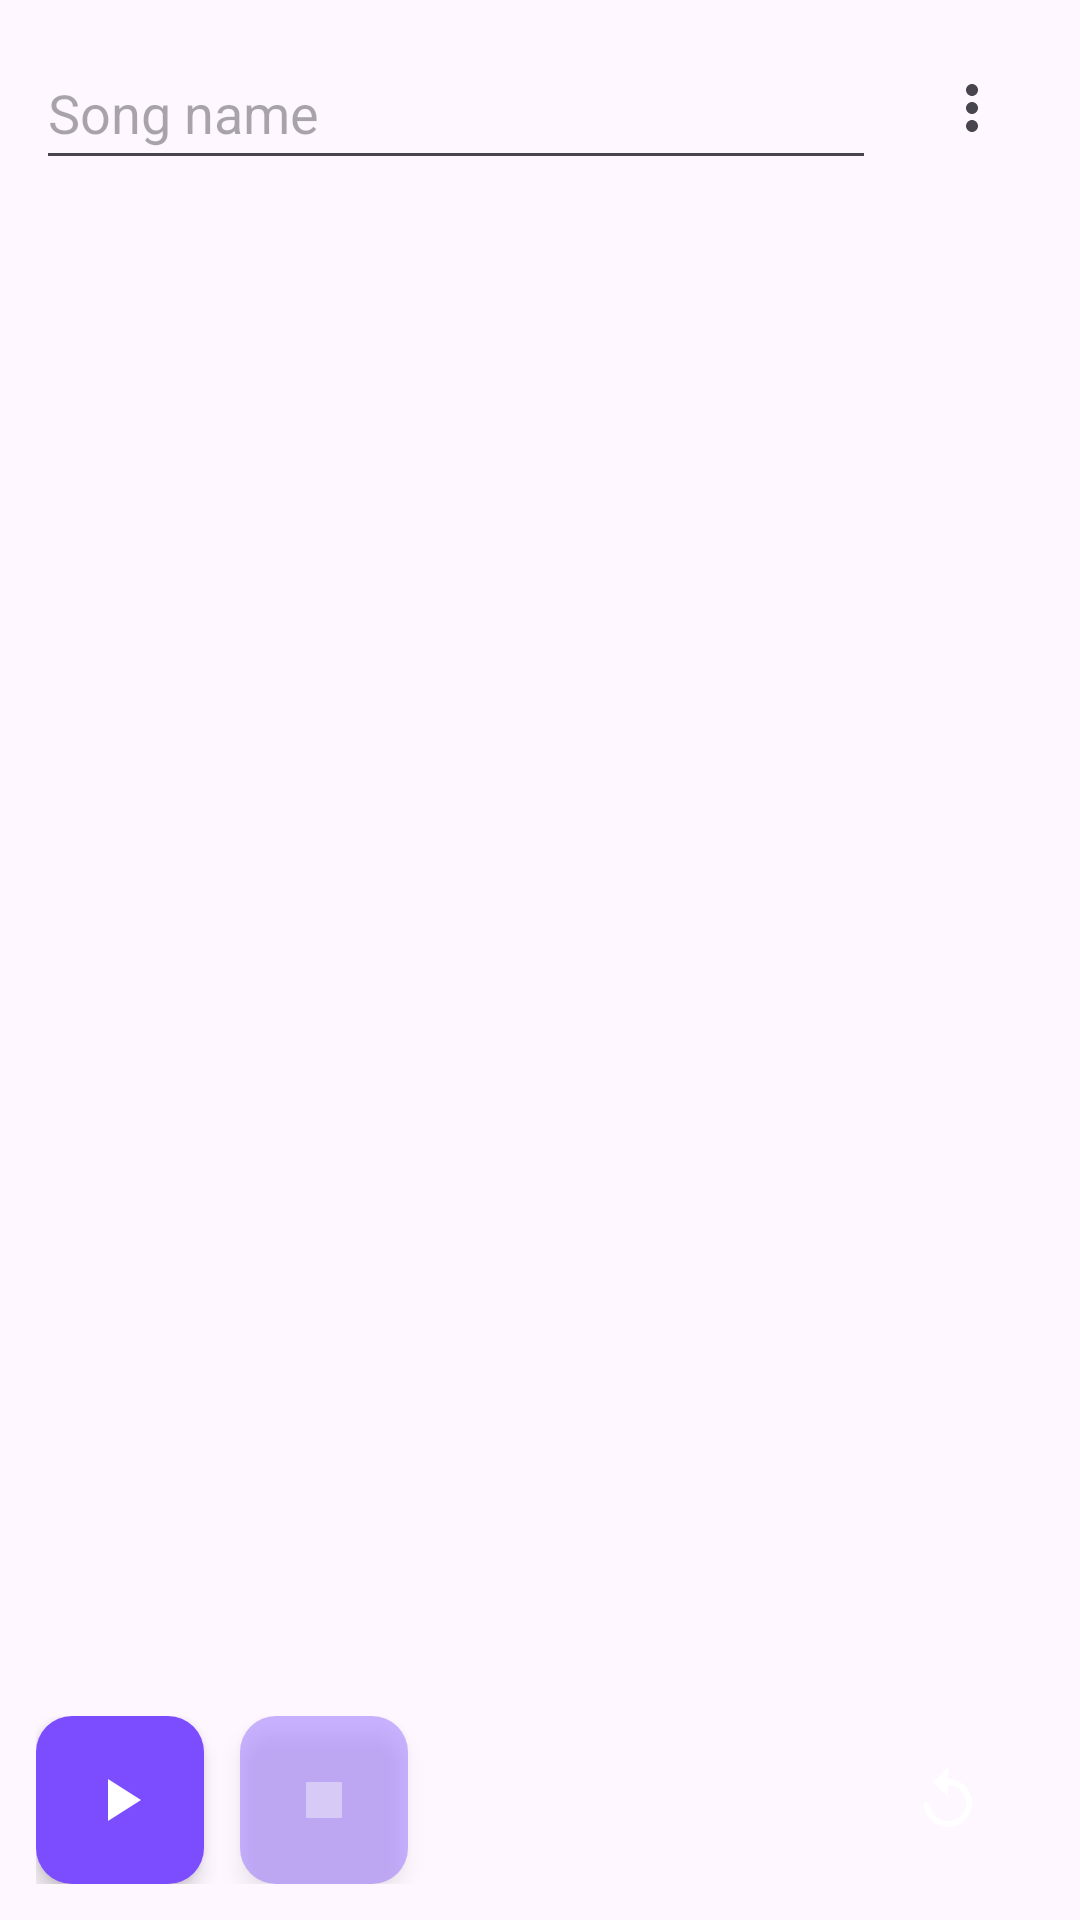

Screen size 1080*1920. Icon name, then its box in pixels as (x1, y1, x2, y2):
Play or pause: (36, 1716, 204, 1884)
Section actions: (966, 84, 978, 132)
Stop playback: (240, 1716, 408, 1884)
